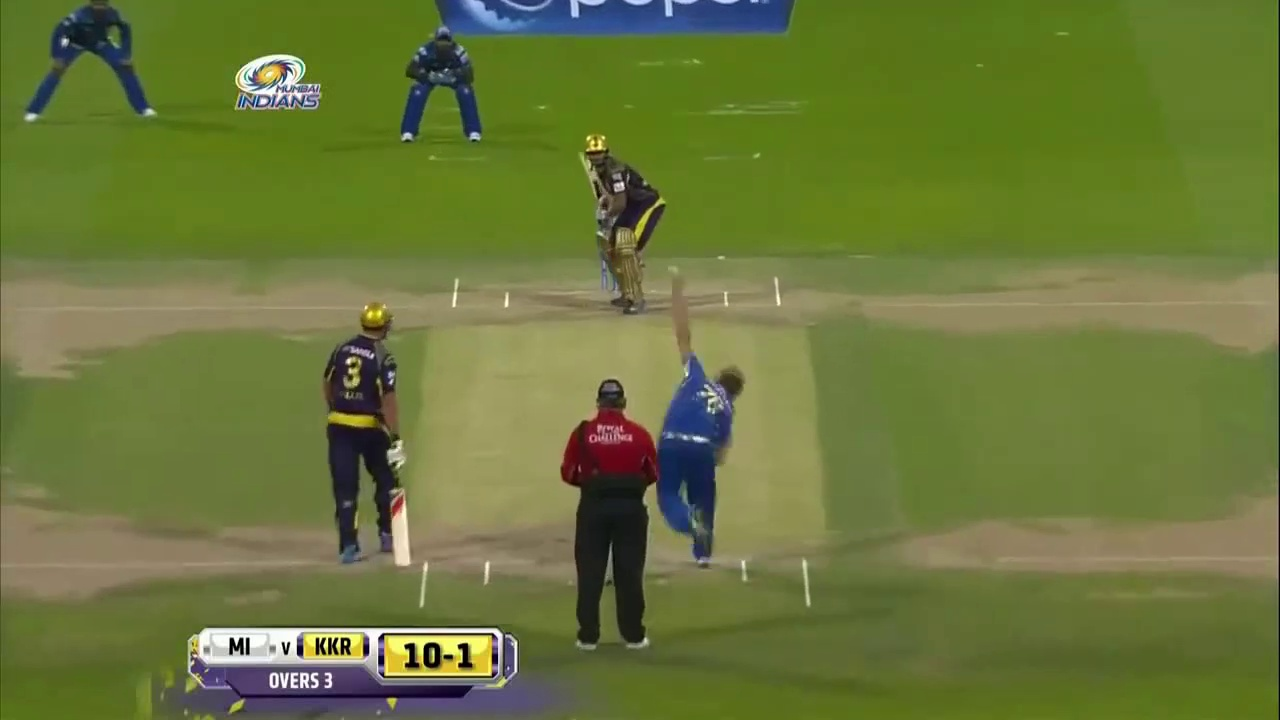bat: (388, 464, 415, 567), (579, 152, 602, 200)
